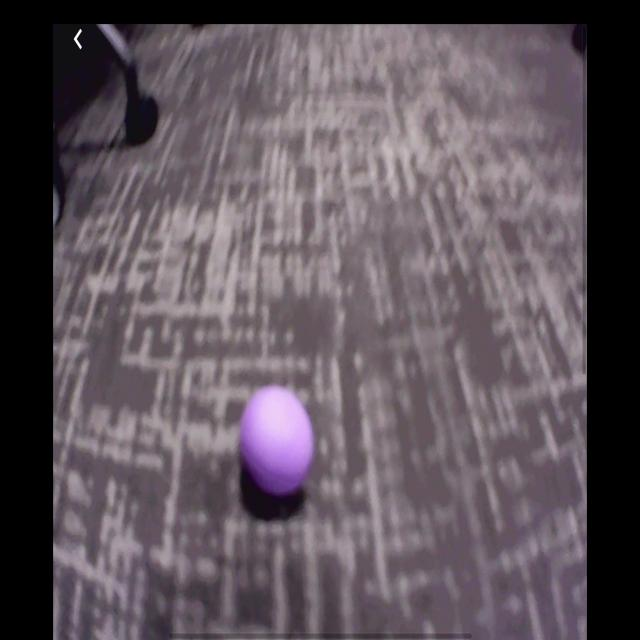ball: (239, 384, 316, 499)
